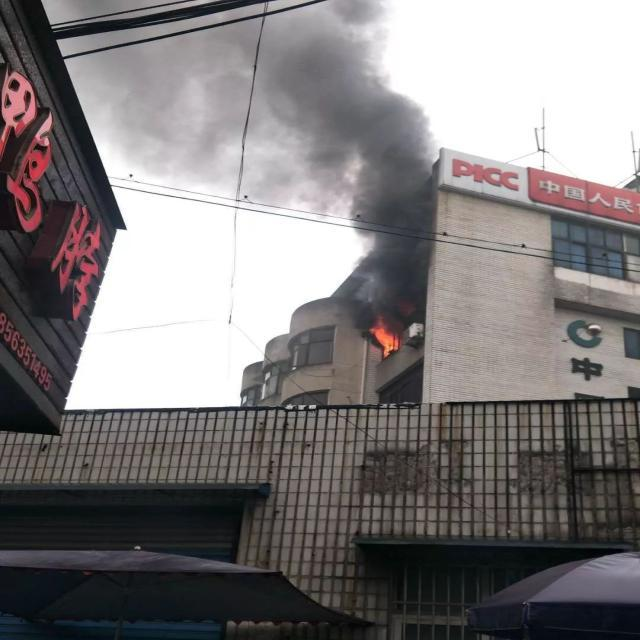Smoke: (97, 0, 432, 309)
